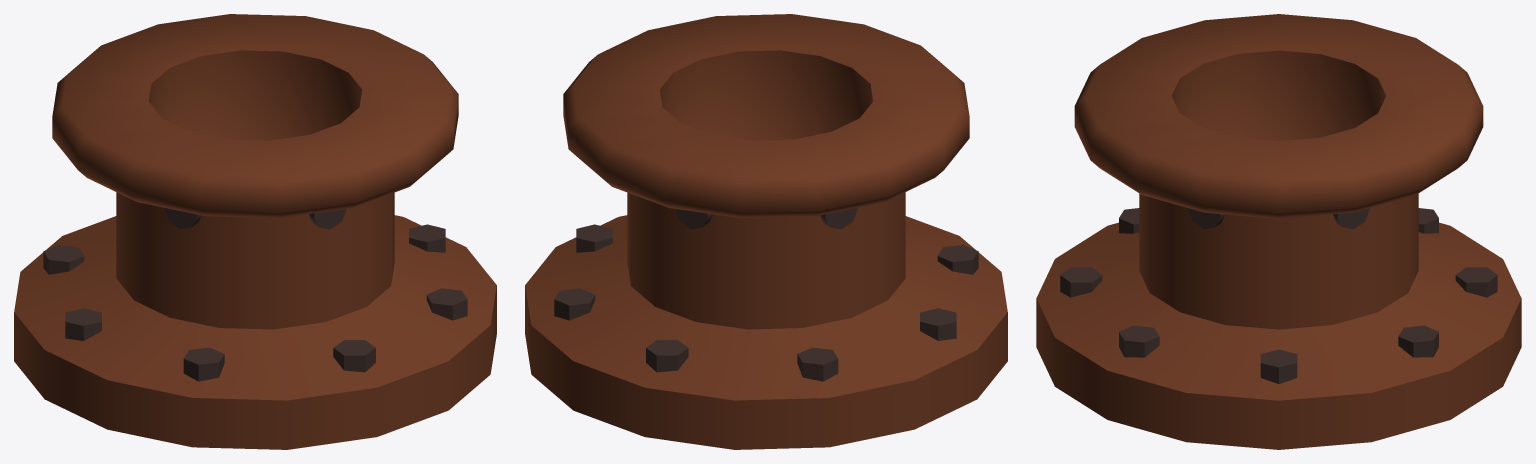
Rendered from WeakPoint_Socket.fbx.
3 views of the same model, side by side, from view 1: azimuth 30°, elevation 25°; view 2: azimuth 150°, elevation 25°; view 3: azimuth 270°, elevation 25° (orthographic).
Visible parts, largest first — view 1: Socket; view 2: Socket; view 3: Socket.
Part boxes in pixels (x1=…): Socket: x1=14, y1=14, x2=496, y2=449; Socket: x1=525, y1=14, x2=1007, y2=449; Socket: x1=1036, y1=14, x2=1521, y2=449.
Size of the model in its own units: 8.93 by 5.11 by 8.93.
